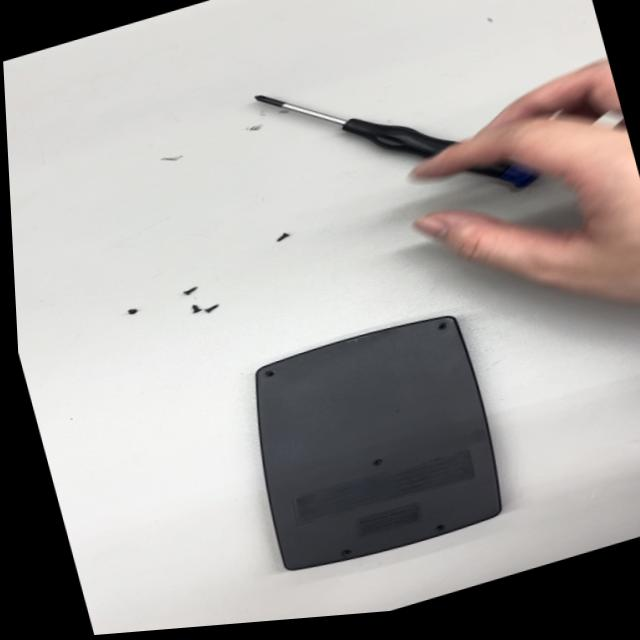back_cover: (216, 296, 522, 591)
screw: (173, 276, 206, 299), (197, 297, 228, 320), (272, 227, 295, 245), (177, 300, 198, 317), (125, 300, 142, 318)
screw_driver: (244, 13, 546, 262)
